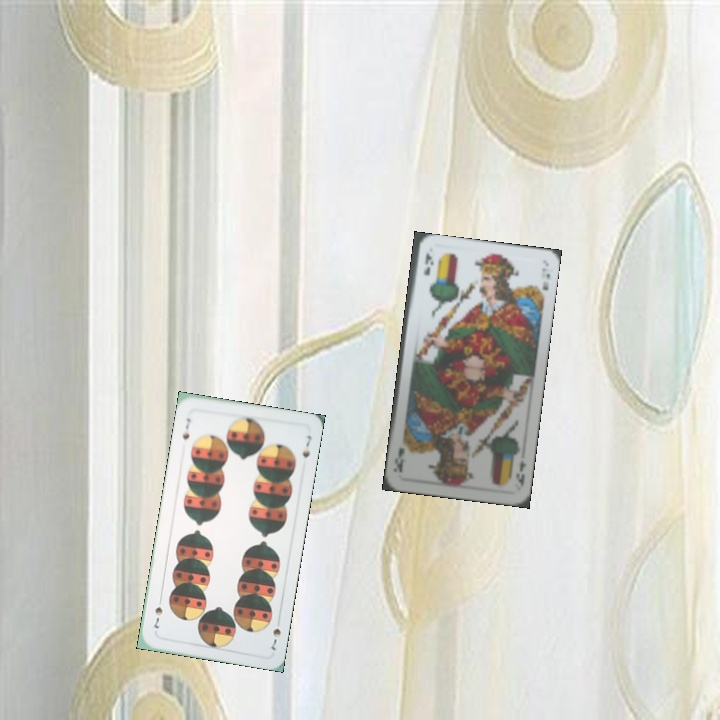EK: (512, 456, 528, 491), (419, 249, 434, 278)
S7: (267, 614, 283, 653), (178, 414, 193, 442)
